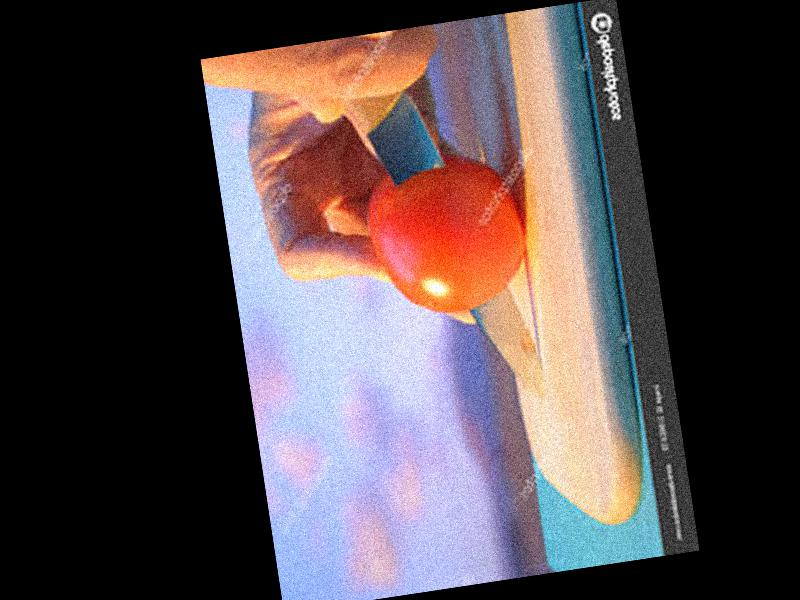Tomato: (361, 145, 537, 324)
